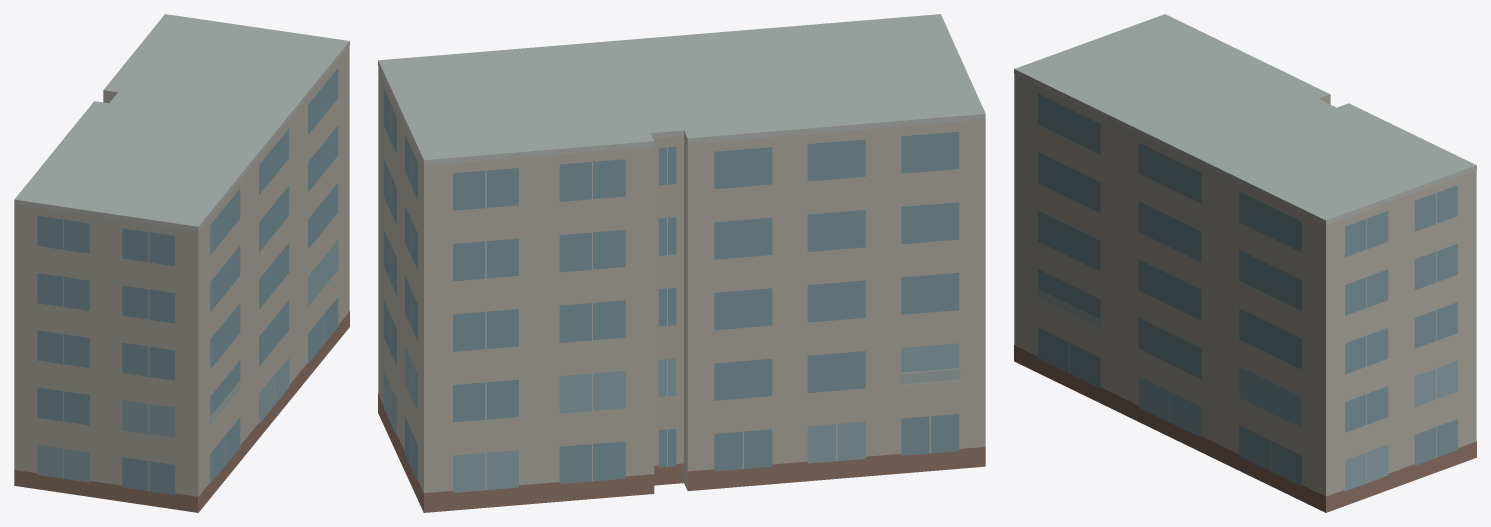
File: survey-upis-32626498.glb
3 renders of one model, left to right at view 1: azimuth 30°, elevation 25°; view 2: azimuth 150°, elevation 25°; view 3: azimuth 270°, elevation 25°, orthographic. The views are drawn at different scales.
Visible parts, largest first — view 1: survey-upis-32626498.tmp; view 2: survey-upis-32626498.tmp; view 3: survey-upis-32626498.tmp.
Part boxes in pixels (bbox=[...]): survey-upis-32626498.tmp: bbox=[14, 14, 349, 512]; survey-upis-32626498.tmp: bbox=[378, 14, 985, 512]; survey-upis-32626498.tmp: bbox=[1014, 14, 1476, 512].
Bounding box in the file's own units: 23.11 × 15.25 × 21.87.
